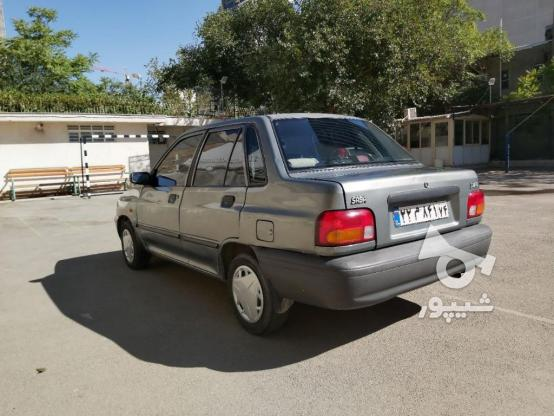car: (393, 199, 450, 224)
